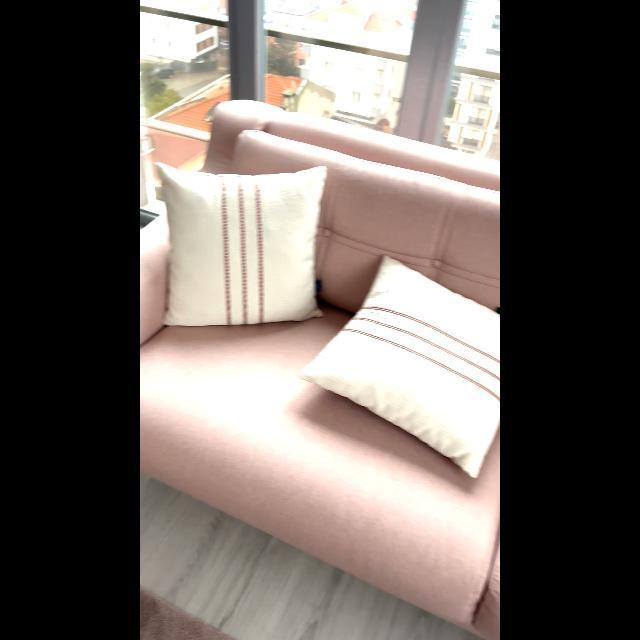throw pillow: (294, 253, 500, 483), (154, 160, 340, 334)
